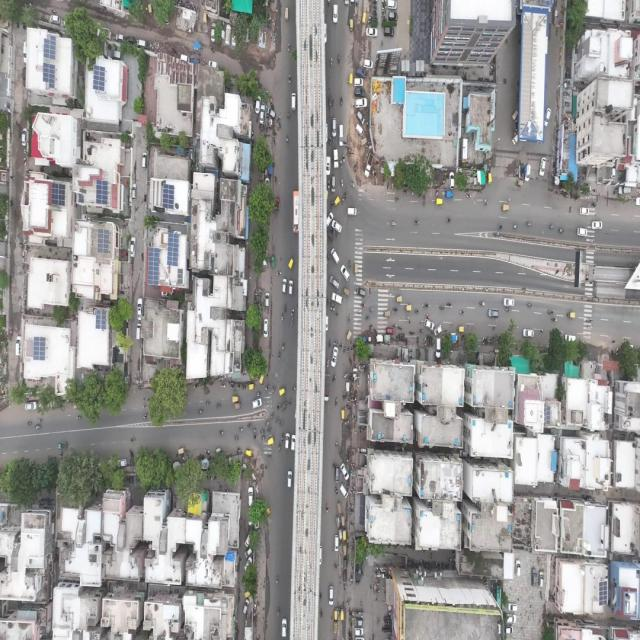3W: (564, 307, 578, 324), (455, 319, 468, 335), (340, 402, 348, 428), (339, 569, 348, 590), (344, 325, 354, 343), (258, 371, 268, 388), (342, 282, 351, 300), (384, 304, 393, 322), (246, 380, 256, 395), (333, 619, 340, 638), (502, 202, 514, 213), (395, 291, 405, 304), (340, 516, 350, 529), (336, 496, 343, 514), (341, 542, 348, 560), (332, 603, 339, 621), (233, 401, 245, 411), (341, 554, 348, 571), (245, 445, 252, 460), (403, 301, 413, 311), (278, 385, 286, 397), (354, 257, 359, 276), (340, 604, 346, 619), (342, 532, 349, 544), (288, 257, 294, 270), (268, 434, 273, 448), (281, 400, 287, 411), (232, 392, 239, 401)
Cars: (290, 89, 300, 115), (328, 170, 338, 196), (20, 37, 30, 63), (20, 121, 30, 147), (485, 304, 501, 320), (48, 11, 62, 28), (331, 114, 340, 140), (210, 19, 218, 48), (246, 485, 256, 508), (520, 323, 535, 338), (330, 288, 343, 305), (590, 215, 603, 232), (330, 2, 340, 24), (339, 120, 346, 151), (340, 457, 349, 481), (530, 561, 538, 588), (328, 273, 342, 288), (338, 481, 348, 502), (206, 56, 221, 70), (562, 330, 575, 346), (353, 122, 365, 139), (340, 262, 350, 282), (15, 330, 22, 358), (354, 283, 368, 297), (281, 616, 289, 640), (129, 234, 136, 261), (330, 344, 338, 367), (514, 556, 522, 579), (504, 612, 518, 625), (354, 110, 367, 124), (364, 26, 378, 39), (134, 38, 148, 51), (331, 245, 340, 265), (140, 152, 150, 170), (130, 179, 138, 201), (332, 218, 342, 235), (244, 531, 254, 548), (503, 619, 513, 636), (353, 85, 366, 98), (288, 432, 296, 453), (352, 624, 366, 636), (578, 205, 590, 219), (383, 26, 395, 40), (388, 9, 400, 23), (122, 33, 136, 45), (179, 51, 190, 66), (263, 312, 269, 339), (286, 278, 295, 296), (324, 20, 330, 47), (264, 288, 271, 311), (331, 150, 341, 166), (280, 271, 286, 297), (546, 104, 552, 130), (540, 153, 546, 179), (110, 46, 122, 59), (285, 470, 292, 492), (354, 98, 368, 109), (114, 30, 125, 44), (364, 56, 373, 73), (502, 298, 517, 308), (22, 62, 28, 87), (333, 464, 340, 485), (269, 252, 278, 268), (346, 207, 358, 219), (325, 211, 333, 229), (353, 615, 365, 627), (576, 225, 588, 237), (259, 106, 265, 130), (508, 600, 518, 614), (424, 317, 434, 331), (434, 335, 440, 358), (224, 25, 230, 48), (326, 154, 332, 177), (244, 548, 253, 563), (385, 0, 400, 9), (511, 133, 520, 148), (252, 399, 262, 412), (333, 532, 338, 558), (539, 564, 544, 590), (448, 170, 454, 191), (255, 95, 262, 113), (325, 312, 330, 336), (243, 596, 249, 616), (25, 400, 38, 409), (352, 76, 363, 86), (266, 106, 277, 116), (138, 296, 142, 323), (243, 561, 252, 573), (328, 584, 333, 605), (435, 322, 442, 336), (385, 324, 393, 336), (284, 431, 289, 450), (118, 456, 128, 465), (189, 54, 199, 63), (135, 322, 140, 339)
LCV: (362, 153, 372, 181), (273, 191, 280, 213), (444, 191, 454, 200)
M2W: (457, 307, 468, 326), (524, 299, 536, 316), (323, 493, 332, 513), (288, 303, 298, 320), (437, 300, 447, 316), (512, 221, 524, 234), (345, 309, 353, 327), (215, 422, 224, 437), (347, 177, 356, 192), (332, 373, 339, 392), (420, 299, 431, 311), (478, 296, 488, 309), (213, 401, 223, 413), (249, 430, 259, 442), (444, 298, 454, 310), (202, 444, 211, 457), (272, 380, 278, 399), (140, 407, 149, 419), (281, 338, 287, 356), (319, 604, 325, 622), (197, 404, 204, 419), (290, 316, 297, 331), (317, 589, 324, 604), (275, 349, 283, 362), (390, 217, 398, 230), (27, 415, 33, 432), (126, 433, 136, 443), (412, 218, 422, 228), (232, 430, 240, 442), (282, 298, 288, 314), (274, 572, 280, 588), (289, 74, 295, 90), (326, 355, 331, 373), (338, 93, 344, 108), (327, 55, 333, 70), (523, 220, 533, 229), (546, 222, 556, 231), (557, 226, 567, 235), (412, 307, 421, 317), (363, 314, 371, 325), (333, 394, 338, 411), (237, 422, 244, 434), (283, 132, 289, 146), (586, 318, 593, 330), (254, 390, 263, 399), (464, 191, 473, 200), (495, 222, 504, 231), (34, 415, 44, 423), (74, 410, 82, 420), (275, 605, 280, 621), (358, 300, 366, 310), (339, 171, 344, 187), (290, 384, 296, 397), (346, 342, 350, 361), (341, 149, 346, 164), (336, 51, 341, 66), (279, 432, 285, 444), (279, 416, 285, 428), (274, 401, 280, 413), (339, 340, 344, 354), (325, 177, 330, 191), (285, 109, 292, 119), (266, 382, 272, 393), (554, 314, 560, 325), (245, 421, 253, 429), (263, 418, 270, 427), (392, 305, 399, 314), (35, 423, 41, 433), (252, 426, 258, 436), (369, 304, 374, 316), (339, 195, 344, 207), (329, 197, 334, 209), (279, 310, 283, 324), (343, 344, 347, 358), (445, 216, 453, 223), (343, 187, 347, 201), (287, 40, 291, 54), (339, 159, 344, 170), (288, 396, 292, 409), (261, 426, 266, 436), (274, 416, 280, 424), (204, 399, 210, 406), (267, 427, 273, 434), (270, 410, 275, 417), (548, 307, 553, 314), (278, 442, 280, 455)
